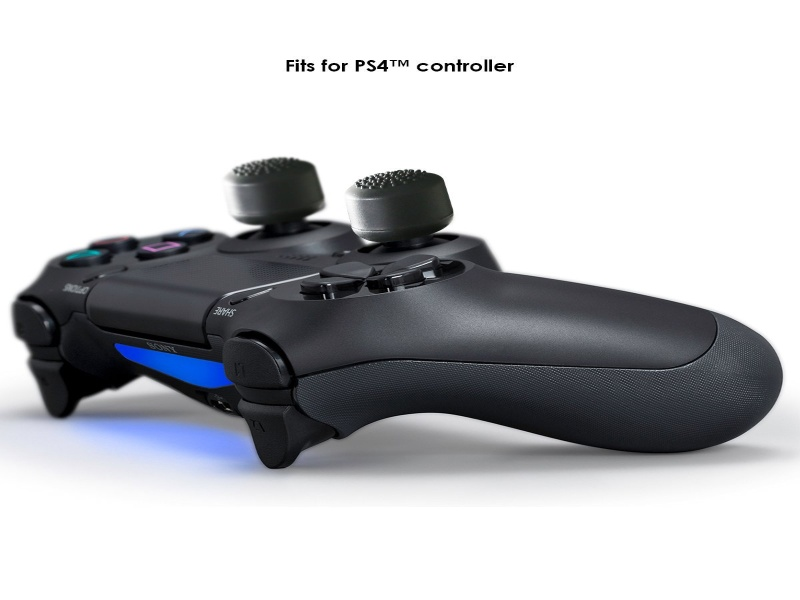ps4 joystick: (11, 152, 784, 472)
